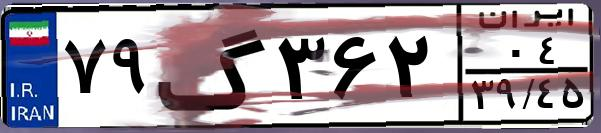0: (508, 27, 537, 80)
2: (385, 28, 445, 110)
3: (270, 28, 330, 110), (470, 70, 495, 125)
4: (537, 27, 568, 80), (535, 70, 560, 125)
5: (560, 70, 590, 125)
6: (330, 28, 385, 110)
7: (57, 26, 110, 100)
9: (110, 28, 156, 98), (495, 70, 520, 125)
گ: (156, 12, 270, 120)
